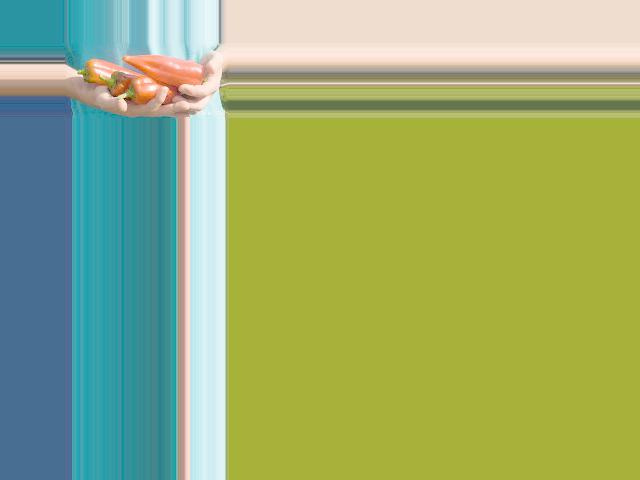bell_pepper: (76, 59, 129, 87)
